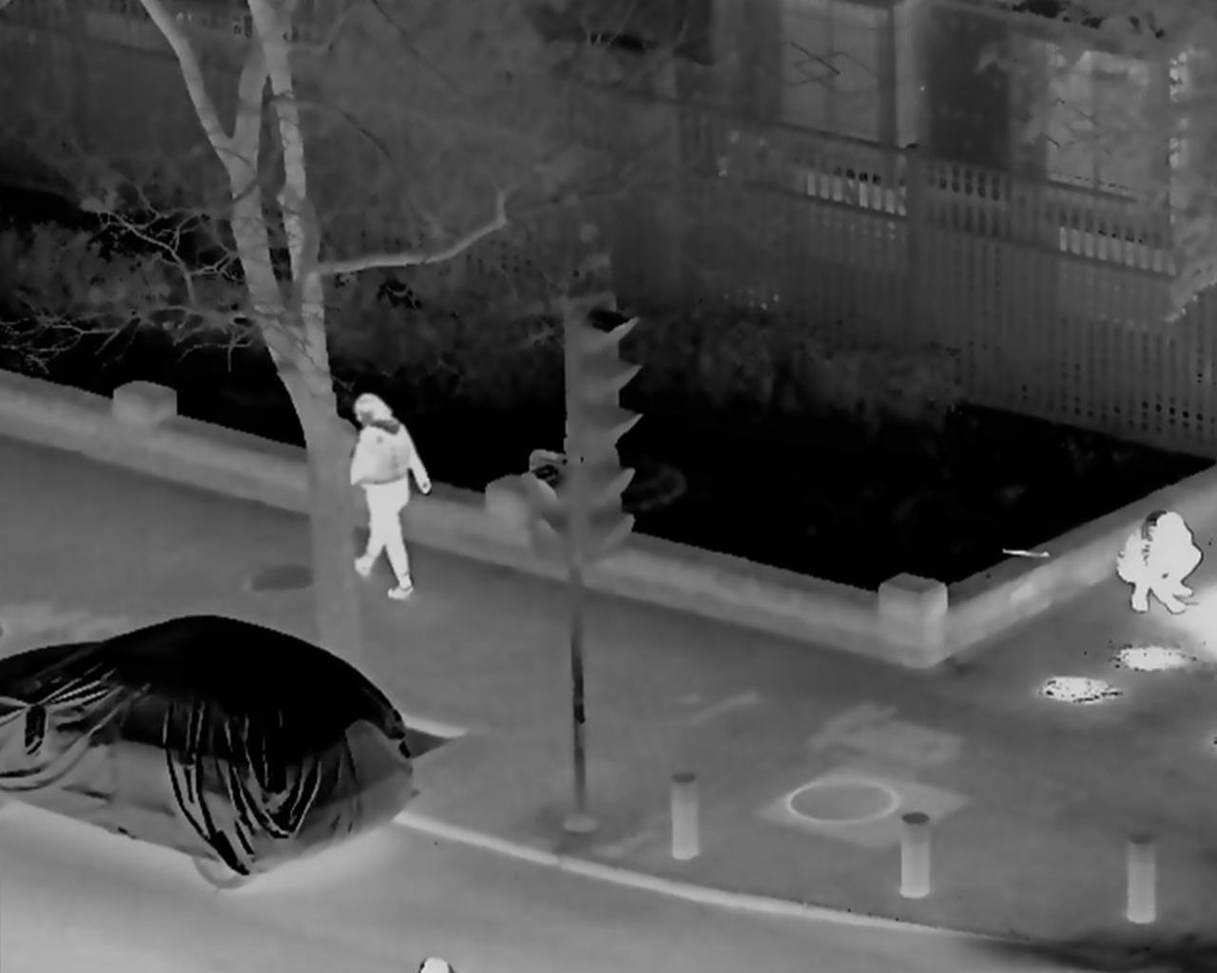person: (346, 396, 437, 604), (1117, 507, 1200, 621)
